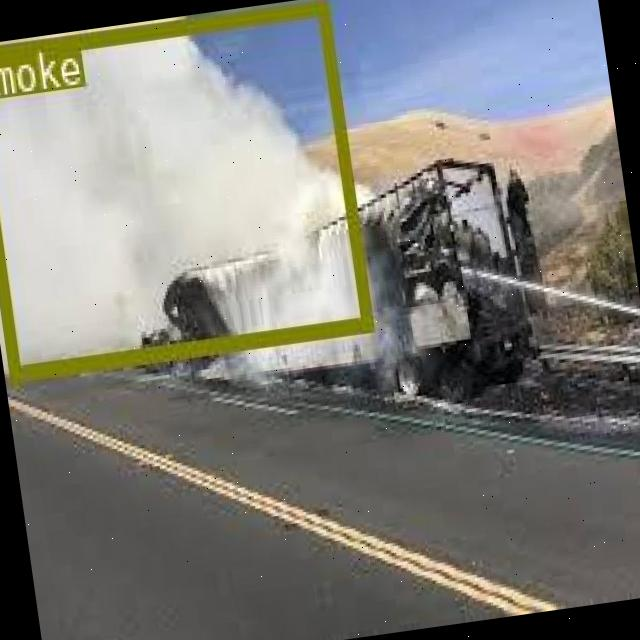smoke: (0, 0, 370, 379)
